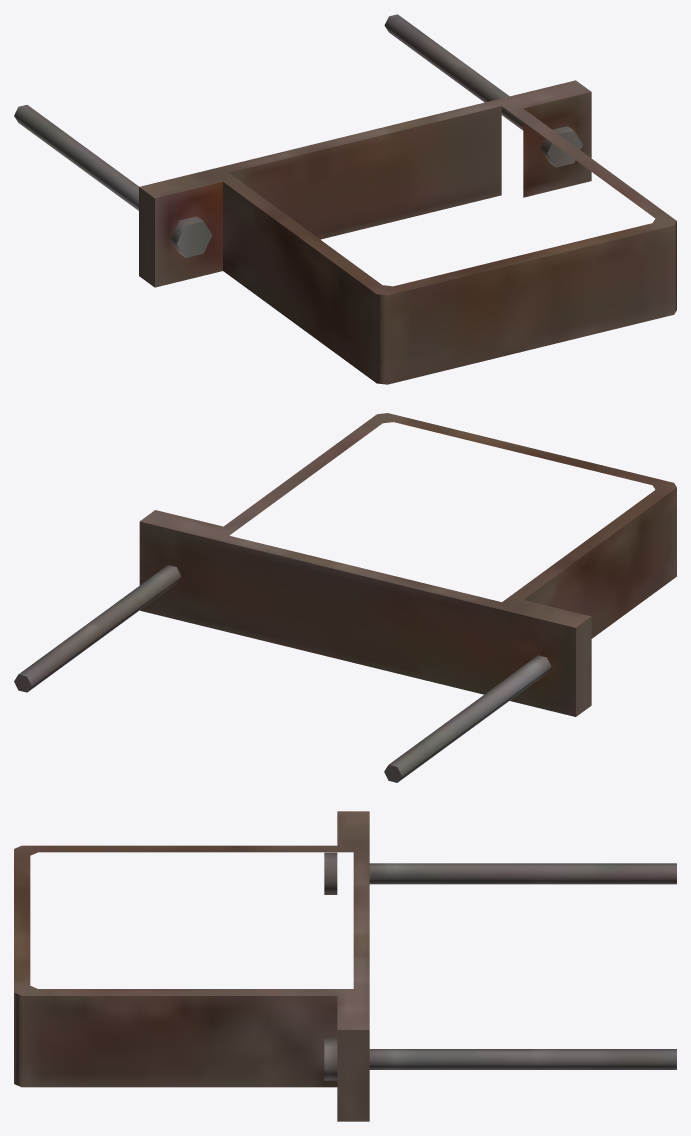
The model's file is gutter_wall_connector.glb.
3 views of the same model, one above another, from view 1: azimuth 30°, elevation 25°; view 2: azimuth 150°, elevation 25°; view 3: azimuth 270°, elevation 25° (orthographic). The views are drawn at different scales.
Parts seen in each view (by area): view 1: gutter_wall_connector; view 2: gutter_wall_connector; view 3: gutter_wall_connector.
Part boxes in pixels (left/top/right/bottom): gutter_wall_connector: left=14, top=14, right=676, bottom=384; gutter_wall_connector: left=14, top=413, right=676, bottom=782; gutter_wall_connector: left=14, top=811, right=676, bottom=1121.
Bounding box in the file's own units: 0.16 × 0.0312 × 0.205.
1 material, 1 textured.
